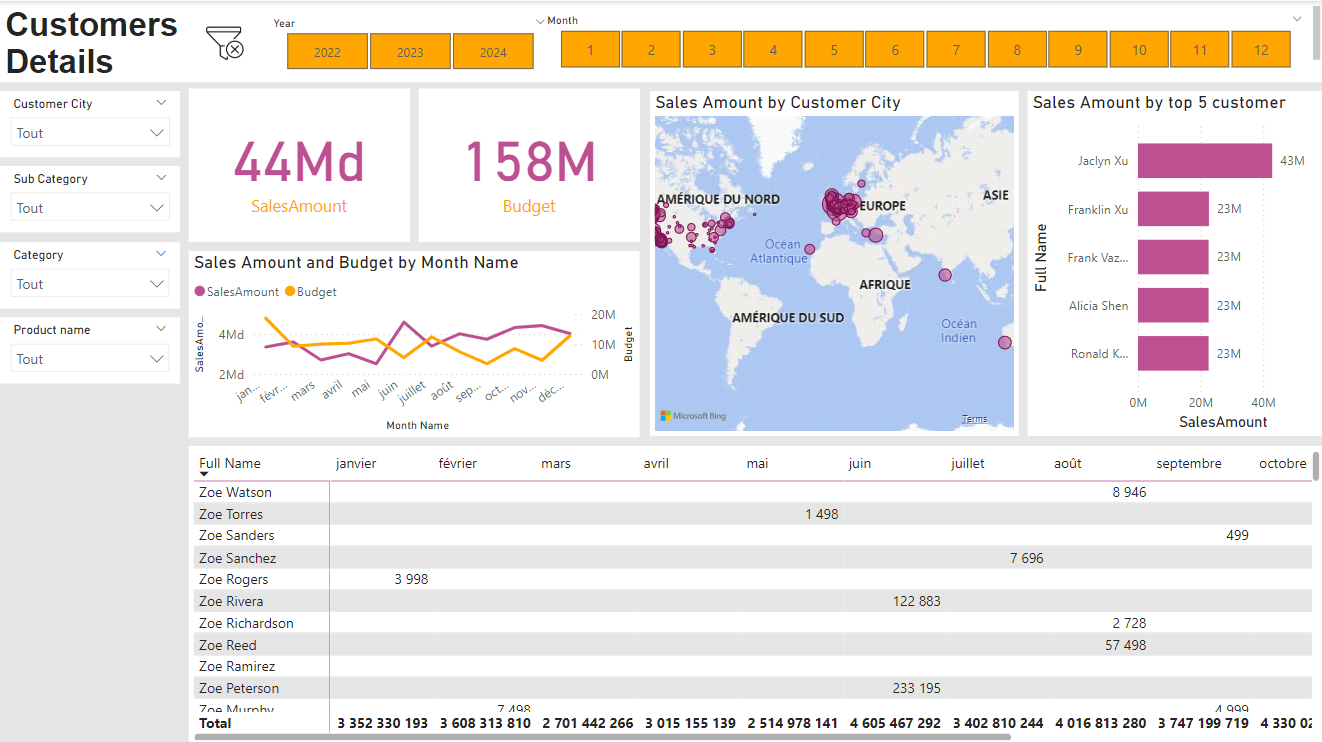

Layout of this report page (visuals, bound fields, positions):
{"tool":"powerbi","page":{"name":"Customers","canvas":[1280,720],"ordinal":1},"visuals":[{"type":"textbox","box":[0,0,1280.3,78.2],"z":0},{"type":"slicer","fields":{"Values":["DimCustomer.Customer City"]},"box":[0,86.9,173.7,63.9],"z":1000},{"type":"slicer","fields":{"Values":["DimProducts (2).Sub Category"]},"box":[0,159.3,173.7,63.9],"z":2000},{"type":"slicer","fields":{"Values":["DimProducts (2).Product Category"]},"box":[0,232.3,173.6,63.8],"z":3000},{"type":"slicer","fields":{"Values":["DimProducts (2).Product Name"]},"box":[0,305.1,173.6,63.8],"z":4000},{"type":"slicer","fields":{"Values":["DimDate.Year"]},"box":[251.1,9.6,288.2,63.1],"z":5000},{"type":"slicer","fields":{"Values":["DimDate.Month"]},"box":[515.7,7.7,754.4,63.8],"z":6000},{"type":"lineChart","title":"Sales Amount and Budget by Month Name","fields":{"Y":["#Measures.SalesAmount"],"Y2":["#Measures.Budget"],"Category":["DimDate.Month Name"]},"box":[182.2,241.3,435.5,179.8],"z":7000},{"type":"barChart","title":"Sales Amount by top 5 customer","fields":{"Y":["#Measures.SalesAmount"],"Category":["DimCustomer.Full Name"]},"box":[991.7,86.9,288.3,333],"z":8000},{"type":"map","title":"Sales Amount by Customer City","fields":{"Category":["DimCustomer.Customer City"],"Size":["#Measures.SalesAmount"]},"box":[627.3,86.9,355.9,333],"z":9000},{"type":"card","fields":{"Values":["#Measures.SalesAmount"]},"box":[182.2,84.5,213.5,148.4],"z":10000},{"type":"card","title":"Budget","fields":{"Values":["#Measures.Budget"]},"box":[404.2,84.5,213.5,148.4],"z":11000},{"type":"pivotTable","fields":{"Rows":["DimCustomer.Full Name"],"Columns":["DimDate.Month Name"],"Values":["#Measures.SalesAmount"]},"box":[182.2,429.5,1097.9,290.8],"z":12000},{"type":"image","box":[194.8,8.3,45.9,65.4],"z":13000}]}

Visuals, with their boxes in screenshot pixels (x1, y1, x2, y2), scaled from the page's 1280x720 canvas onto the 1322x742 screenshot:
textbox: 0 0 1321 81
slicer - DimCustomer.Customer City: 0 90 179 155
slicer - DimProducts (2).Sub Category: 0 164 179 230
slicer - DimProducts (2).Product Category: 0 239 179 305
slicer - DimProducts (2).Product Name: 0 314 179 380
slicer - DimDate.Year: 259 10 557 75
slicer - DimDate.Month: 533 8 1312 74
"Sales Amount and Budget by Month Name" lineChart: 188 249 638 434
"Sales Amount by top 5 customer" barChart: 1024 90 1321 433
"Sales Amount by Customer City" map: 648 90 1015 433
card - #Measures.SalesAmount: 188 87 409 240
"Budget" card: 417 87 638 240
pivotTable - DimCustomer.Full Name x DimDate.Month Name: 188 443 1321 741
image: 201 9 249 76
